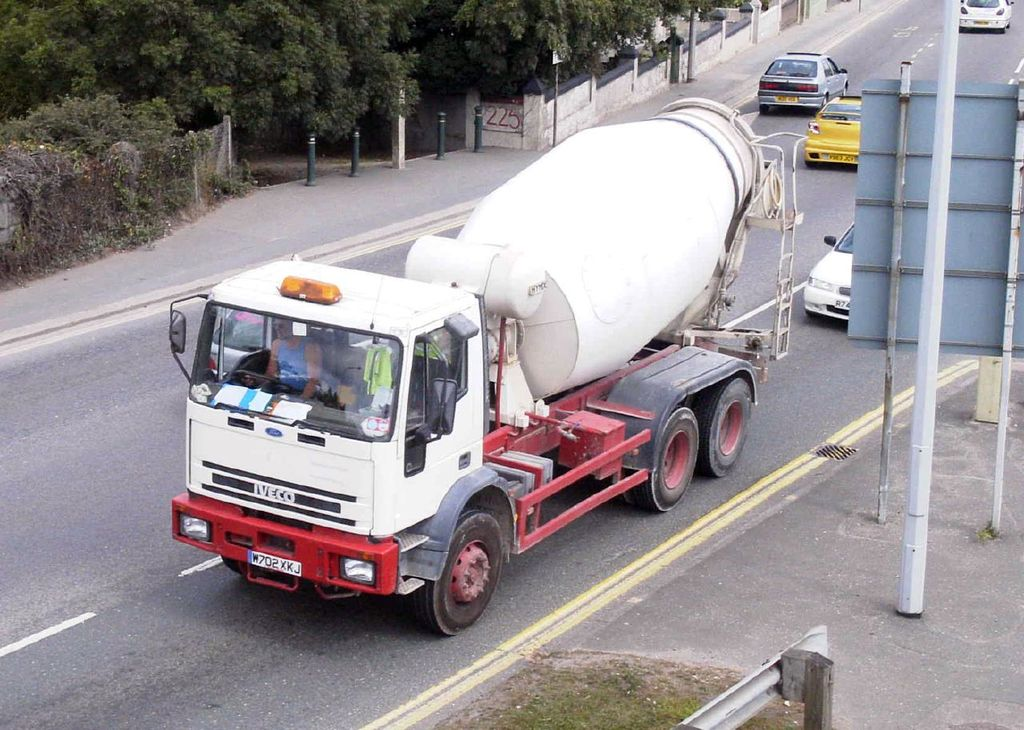Car: (801, 224, 859, 326), (760, 50, 851, 106), (801, 94, 860, 168), (962, 0, 1013, 29)
